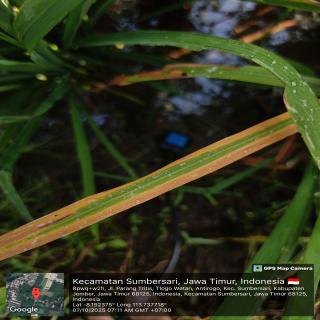Hawar-Daun: (0, 112, 298, 261)
